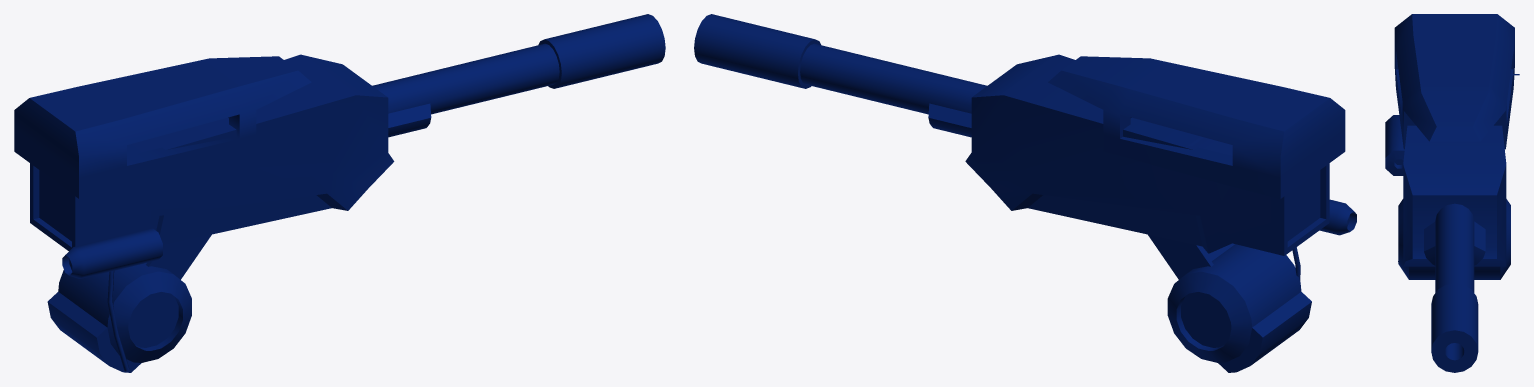
File: Gun.obj
3 views of the same model, side by side, from view 1: azimuth 30°, elevation 25°; view 2: azimuth 150°, elevation 25°; view 3: azimuth 270°, elevation 25° (orthographic). The views are drawn at different scales.
Visible parts, largest first — view 1: Cylinder_002; view 2: Cylinder_002; view 3: Cylinder_002.
Part boxes in pixels (left/top/right/bottom): Cylinder_002: left=14, top=14, right=665, bottom=372; Cylinder_002: left=694, top=14, right=1356, bottom=372; Cylinder_002: left=1385, top=14, right=1519, bottom=372.
Size of the model in its own units: 6.81 by 2.68 by 1.39.
